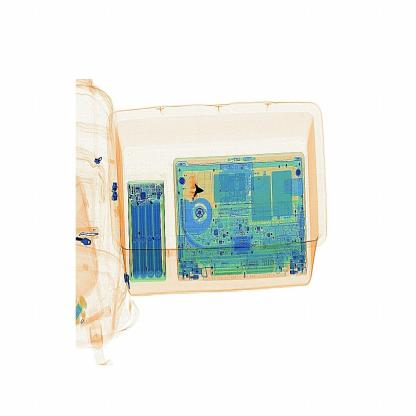gun: (172, 167, 207, 214)
